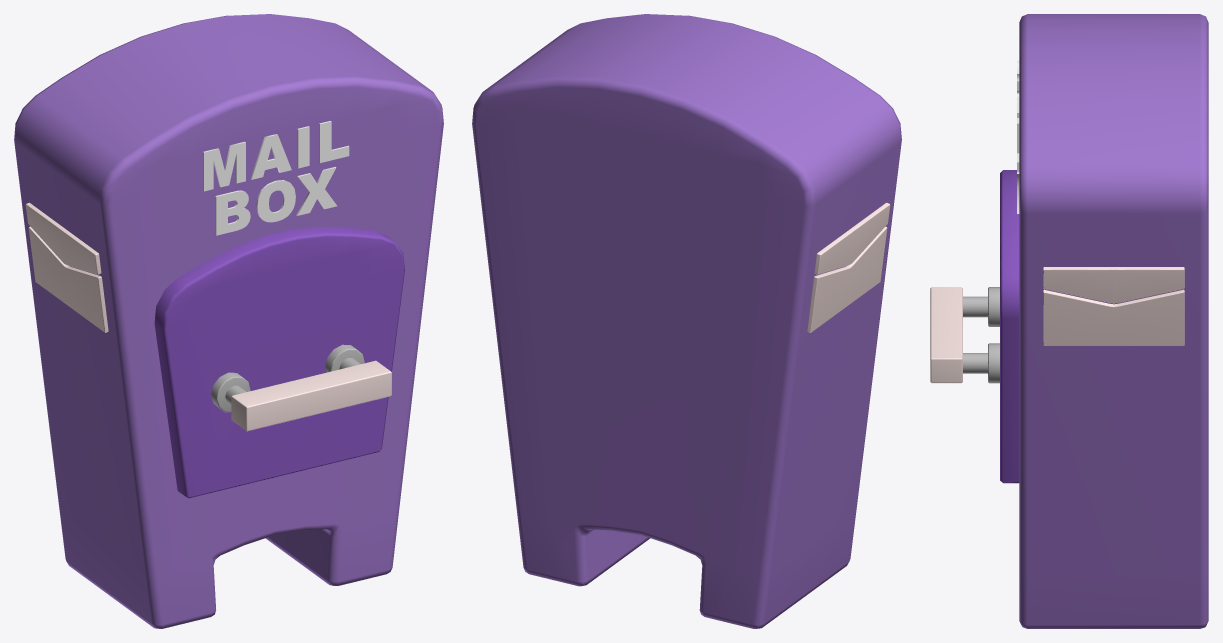
The model's file is City_5_Mailbox_1.glb.
The picture shows the model from 3 angles, left to right: view 1: azimuth 30°, elevation 25°; view 2: azimuth 150°, elevation 25°; view 3: azimuth 270°, elevation 25°; orthographic projection.
Parts seen in each view (by area): view 1: City_5_Mailbox_1; view 2: City_5_Mailbox_1; view 3: City_5_Mailbox_1.
Part boxes in pixels (x1,y1,x2,y2): City_5_Mailbox_1: (14,14,443,628); City_5_Mailbox_1: (472,14,901,628); City_5_Mailbox_1: (930,14,1208,628).
Size of the model in its own units: 0.9774 by 1.4 by 0.678.
1 material, 1 textured.
